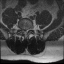CCS_stenosis: (24, 27, 26, 36)
LFS_normal: (28, 26, 30, 32)
LLS_normal: (26, 27, 28, 35)
RFS_stenosis: (20, 26, 22, 32)
RLS_normal: (22, 27, 24, 35)
